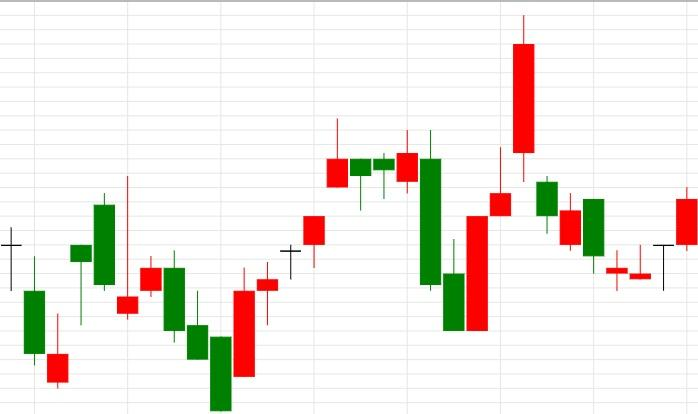bullish_engulfing_rise: (325, 118, 488, 333)
shooting_star_fall: (442, 147, 512, 333)
